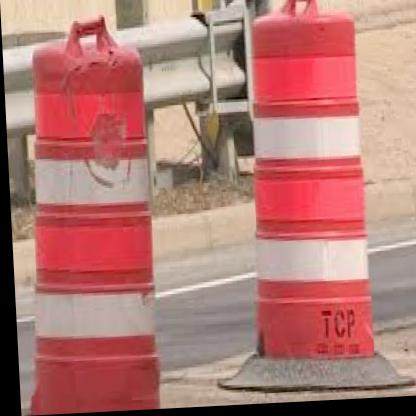obstacle: (21, 31, 162, 415), (245, 3, 375, 372)
